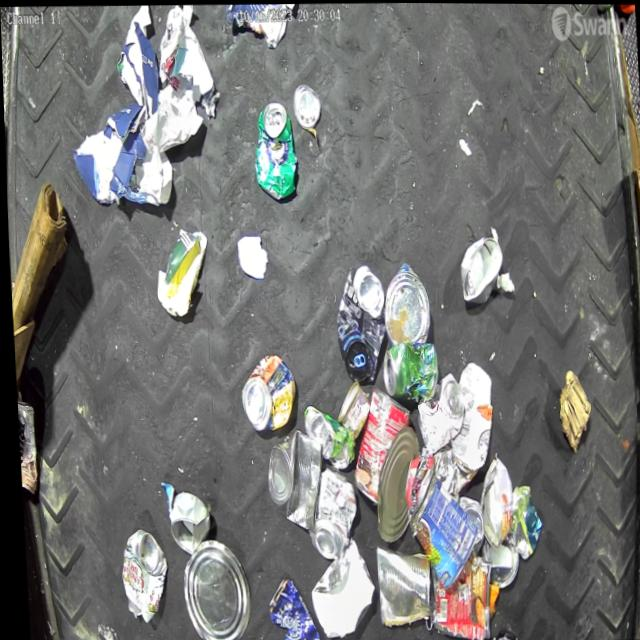can: (400, 472, 474, 591), (345, 385, 410, 505), (173, 536, 246, 640), (330, 263, 386, 381), (260, 428, 322, 533), (368, 426, 419, 542), (424, 556, 489, 639), (301, 465, 355, 558), (113, 526, 164, 623), (370, 542, 427, 627), (249, 99, 296, 199), (235, 352, 292, 431), (410, 370, 461, 455), (378, 261, 428, 343), (261, 573, 315, 640), (376, 340, 434, 401), (472, 455, 509, 548), (455, 230, 502, 301), (299, 403, 350, 468), (162, 492, 207, 555), (330, 380, 367, 438), (475, 537, 515, 588), (13, 399, 34, 493), (453, 494, 479, 553), (290, 83, 320, 128)
